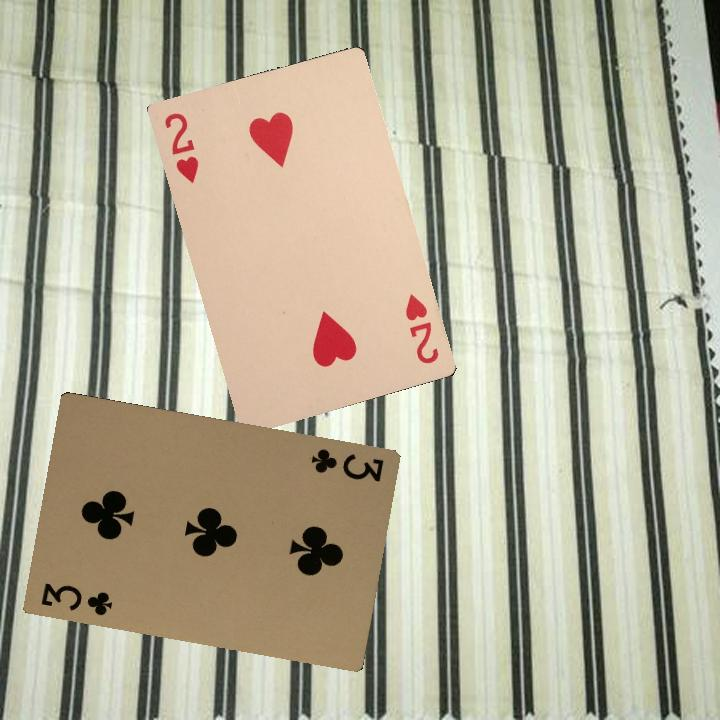2h: (160, 108, 202, 186), (401, 290, 442, 367)
3c: (307, 444, 387, 484), (37, 578, 115, 619)
